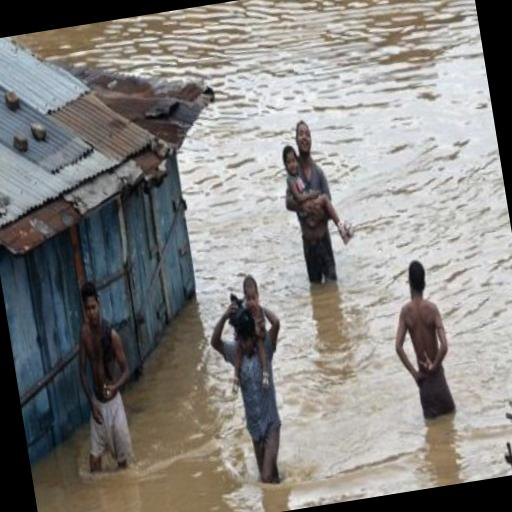flood: (13, 0, 512, 512)
house: (0, 7, 254, 449)
